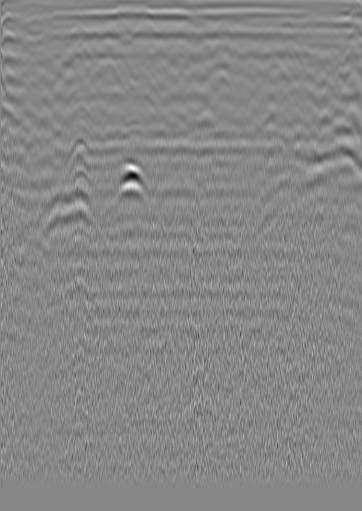가스: (112, 156, 145, 190)
상수: (20, 15, 40, 35)
오수: (317, 26, 337, 46)
우수: (160, 22, 180, 42)
